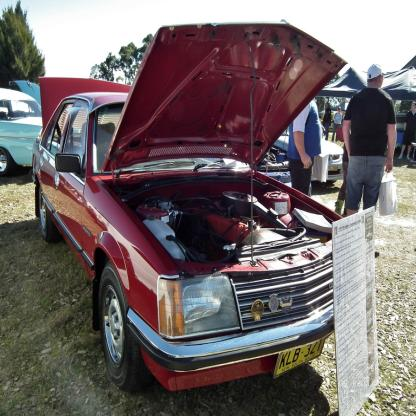Car: (33, 17, 383, 398), (1, 87, 81, 183), (271, 125, 347, 187), (1, 80, 41, 118)
